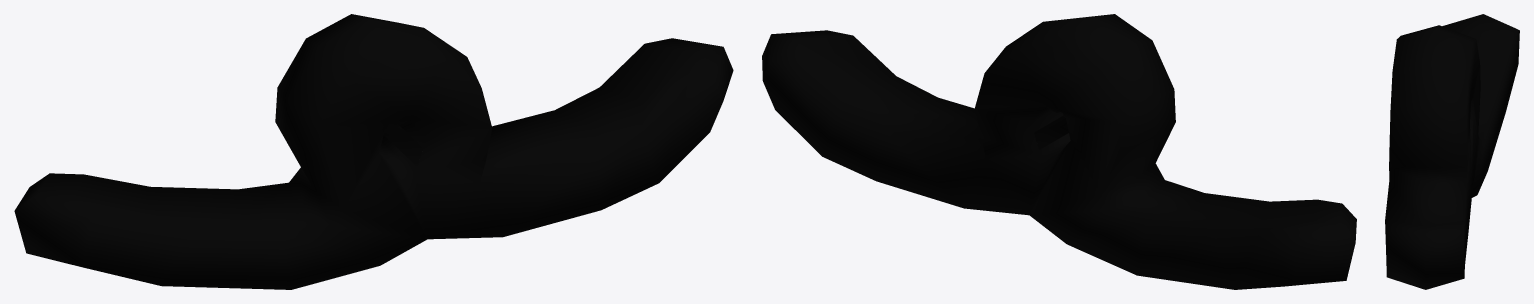
File: eyebrows_04.fbx
3 views of the same model, side by side, from view 1: azimuth 30°, elevation 25°; view 2: azimuth 150°, elevation 25°; view 3: azimuth 270°, elevation 25° (orthographic). The views are drawn at different scales.
Parts seen in each view (by area): view 1: Eyebrows_04; view 2: Eyebrows_04; view 3: Eyebrows_04.
Part boxes in pixels (left/top/right/bottom): Eyebrows_04: left=14, top=14, right=733, bottom=289; Eyebrows_04: left=762, top=14, right=1356, bottom=289; Eyebrows_04: left=1385, top=14, right=1519, bottom=289.
Size of the model in its own units: 81.34 by 27.62 by 18.59.
